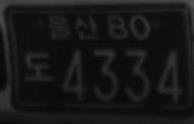0: (130, 14, 151, 40)
3: (123, 50, 150, 101), (93, 49, 118, 100)
4: (156, 50, 185, 101), (63, 50, 89, 98)
8: (106, 15, 128, 39)
도: (24, 52, 52, 82)
울산_O: (48, 14, 99, 40)
